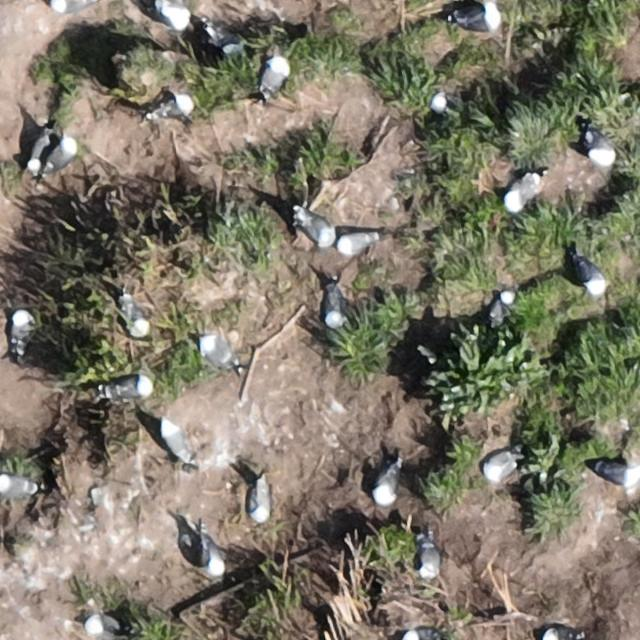umineko: (45, 140, 76, 174), (506, 177, 536, 211), (202, 338, 237, 367), (578, 258, 606, 294), (156, 1, 192, 29), (454, 8, 498, 30), (302, 216, 334, 246), (262, 54, 287, 91), (597, 464, 639, 486), (163, 424, 188, 460), (484, 453, 516, 481), (201, 538, 223, 576), (110, 376, 150, 396), (251, 484, 271, 523), (124, 298, 146, 333), (374, 470, 396, 504), (588, 135, 612, 166), (11, 310, 31, 347), (338, 232, 371, 254), (418, 542, 438, 577), (1, 476, 36, 496), (489, 291, 510, 322), (324, 293, 342, 328), (166, 94, 192, 118), (88, 616, 115, 636), (50, 0, 94, 12), (543, 626, 576, 639), (431, 92, 449, 114), (403, 628, 433, 639)
